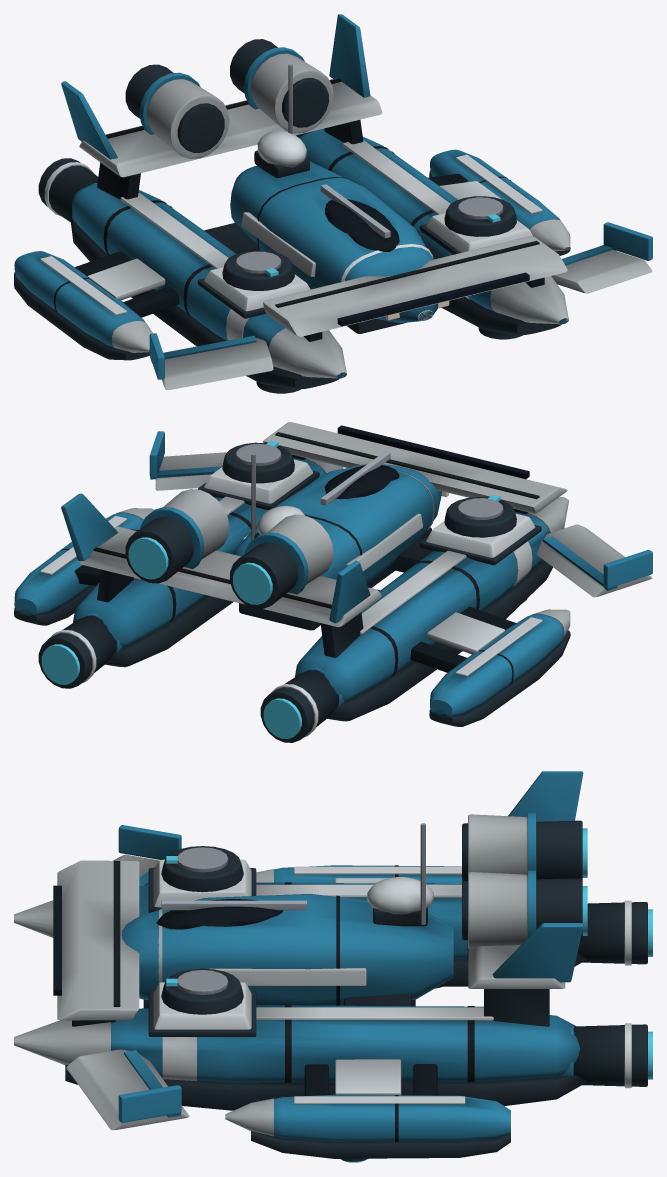
The model's file is ex_skiff_5.glb.
The picture shows the model from 3 angles, top to bottom: view 1: azimuth 30°, elevation 25°; view 2: azimuth 150°, elevation 25°; view 3: azimuth 270°, elevation 25°; orthographic projection. The views are drawn at different scales.
Parts seen in each view (by area): view 1: body; view 2: body; view 3: body.
Part boxes in pixels (box(x1,y1,x2,y2)): body: box(14, 14, 652, 393); body: box(14, 422, 652, 742); body: box(14, 771, 652, 1162).
Bounding box in the file's own units: 7.65 × 2.98 × 7.56.
